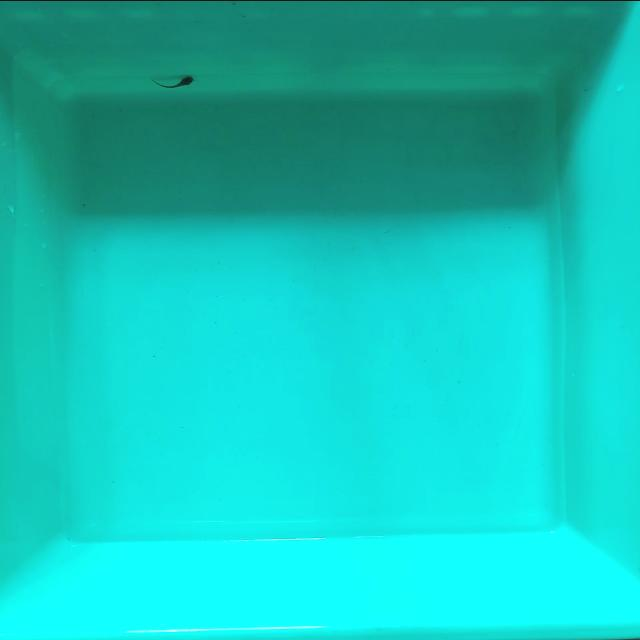lele: (153, 75, 195, 88)
